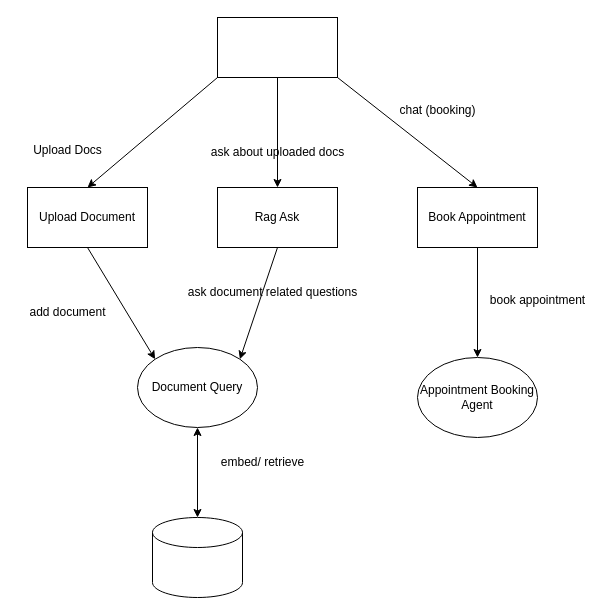
Image size: 614x615. Some labels were removed from this diagram. The centre of each missing label's shape, as x and y in pixels:
"Qdrant Vector DB" belongs at point 197,557.
"User" belongs at point 277,47.
